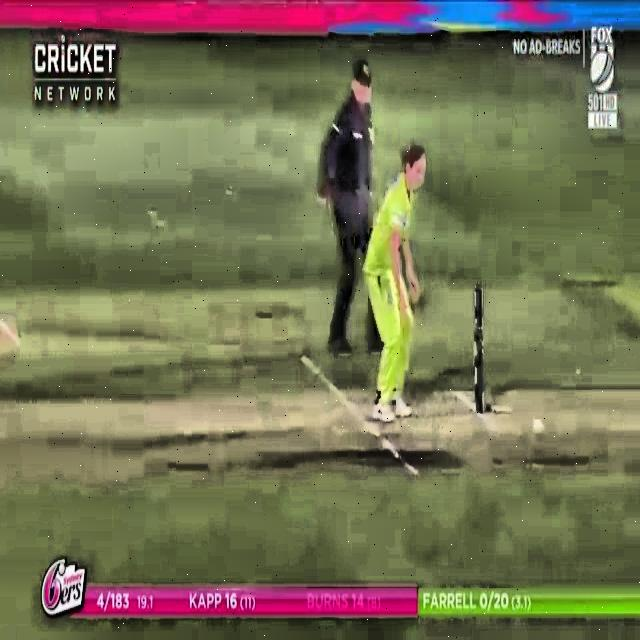Ball: (527, 412, 550, 441)
Pitch_Line: (296, 352, 420, 479)
Undis_Wicket: (460, 279, 497, 419)
